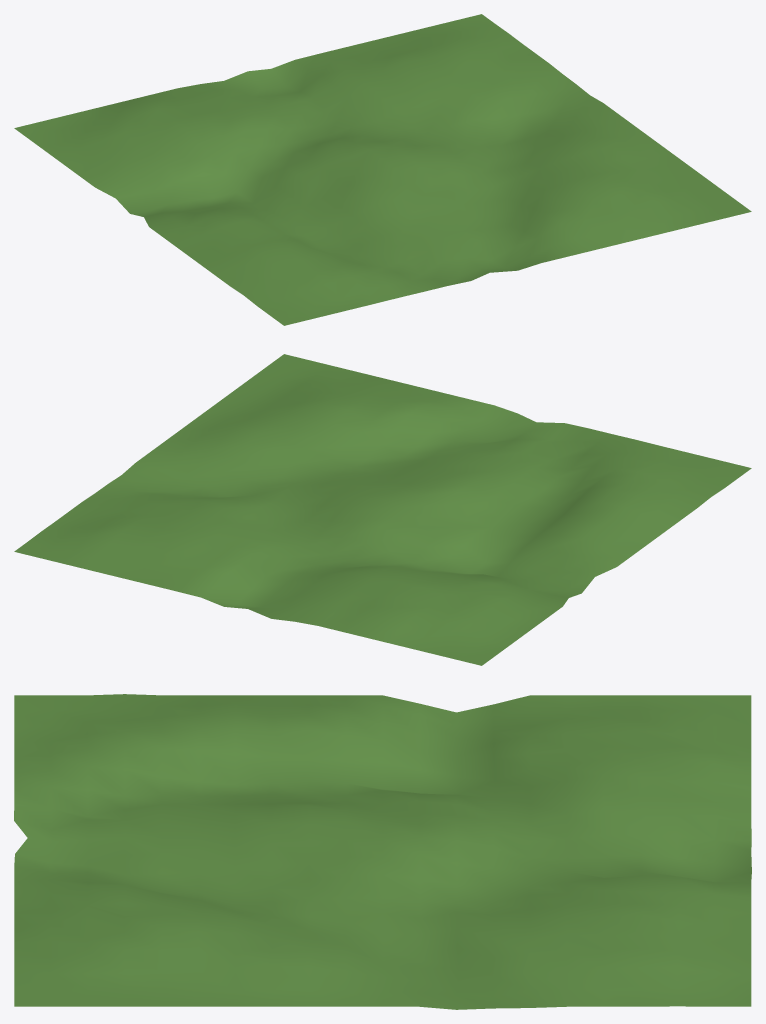
File: grass_test.fbx
The picture shows the model from 3 angles, top to bottom: view 1: azimuth 30°, elevation 25°; view 2: azimuth 150°, elevation 25°; view 3: azimuth 270°, elevation 25°; orthographic projection. The views are drawn at different scales.
Visible parts, largest first — view 1: grass; view 2: grass; view 3: grass.
Part boxes in pixels (x1=…): grass: x1=14, y1=14, x2=751, y2=325; grass: x1=14, y1=354, x2=751, y2=665; grass: x1=14, y1=694, x2=751, y2=1009.
Size of the model in its own units: 414 by 22.5 by 415.
